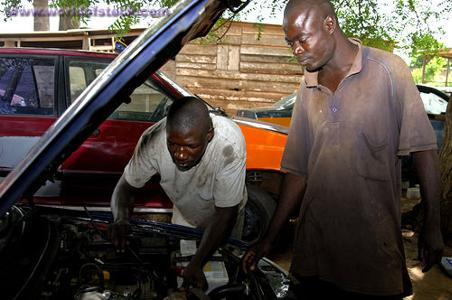person: (109, 93, 252, 295)
